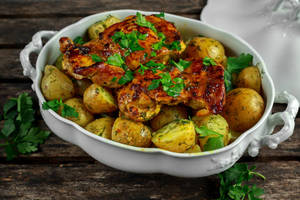boiled potatoes: (77, 27, 237, 133)
